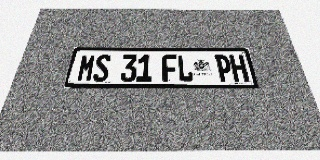1: (136, 55, 152, 82)
3: (120, 55, 137, 82)
F: (162, 55, 178, 82)
H: (229, 55, 249, 82)
L: (177, 55, 194, 82)
M: (76, 54, 96, 82)
P: (214, 55, 234, 82)
S: (92, 54, 111, 82)
